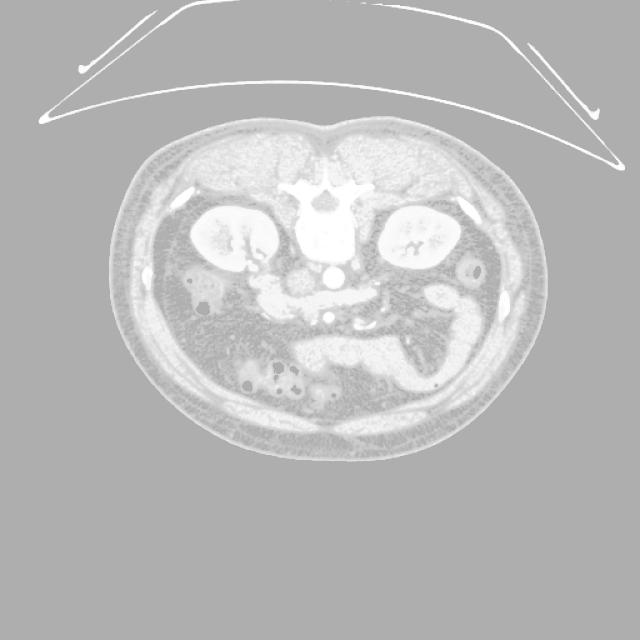NORMAL: (122, 130, 545, 454)
